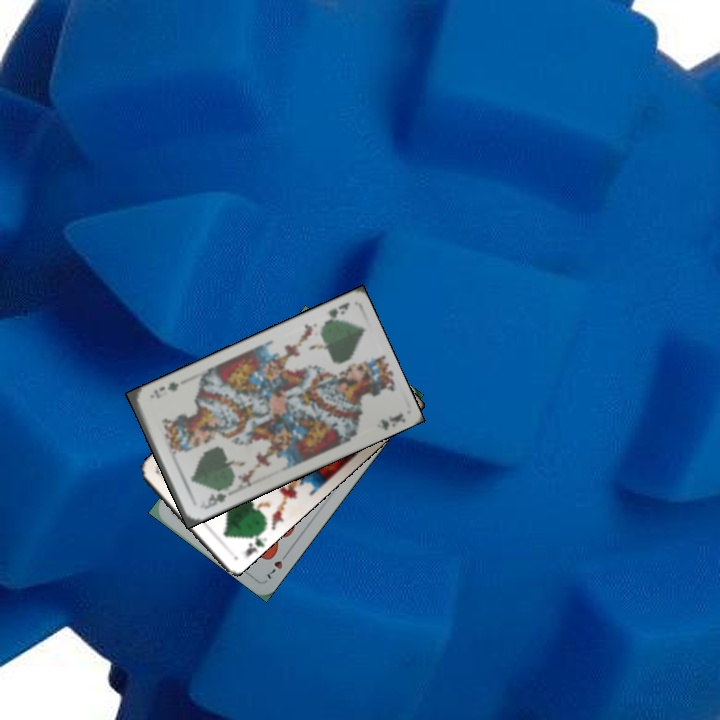GK: (319, 298, 353, 328), (241, 528, 269, 560), (198, 489, 229, 511)
H7: (263, 547, 291, 582)
